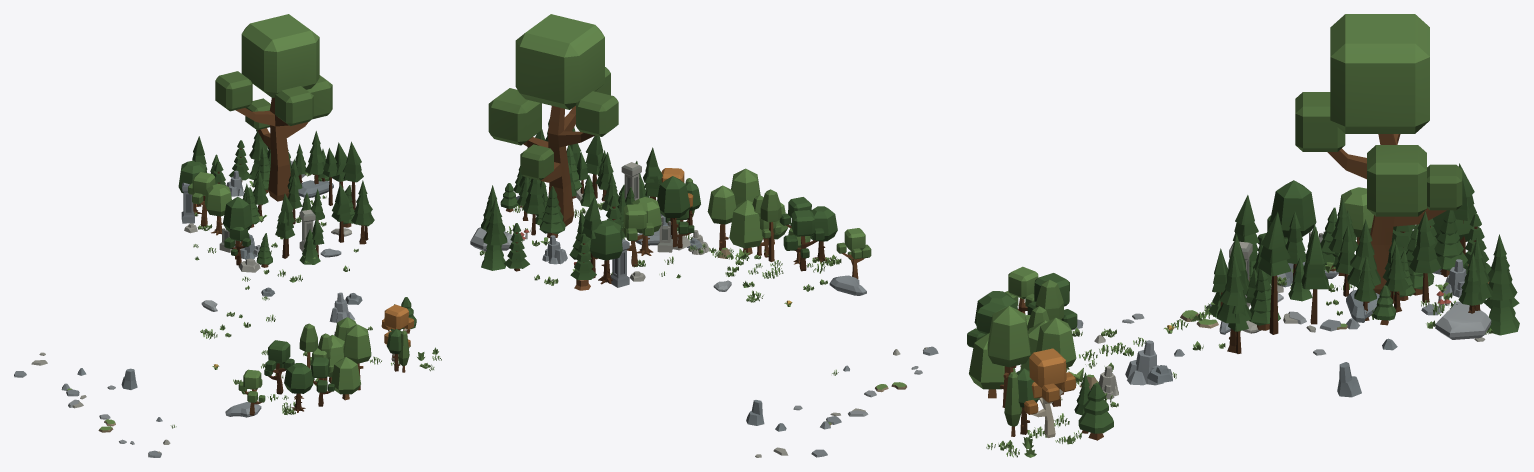
The model's file is cell_x-1_z1_render.gltf.
3 renders of one model, left to right at view 1: azimuth 30°, elevation 25°; view 2: azimuth 150°, elevation 25°; view 3: azimuth 270°, elevation 25°, orthographic. The views are drawn at different scales.
Parts seen in each view (by area): view 1: cell_x-1_z1; view 2: cell_x-1_z1; view 3: cell_x-1_z1.
Part boxes in pixels (x1,y1,x2,y2): cell_x-1_z1: [14, 14, 441, 457]; cell_x-1_z1: [470, 14, 938, 457]; cell_x-1_z1: [967, 14, 1519, 457].
Bounding box in the file's own units: 41.39 × 41.15 × 42.4.
